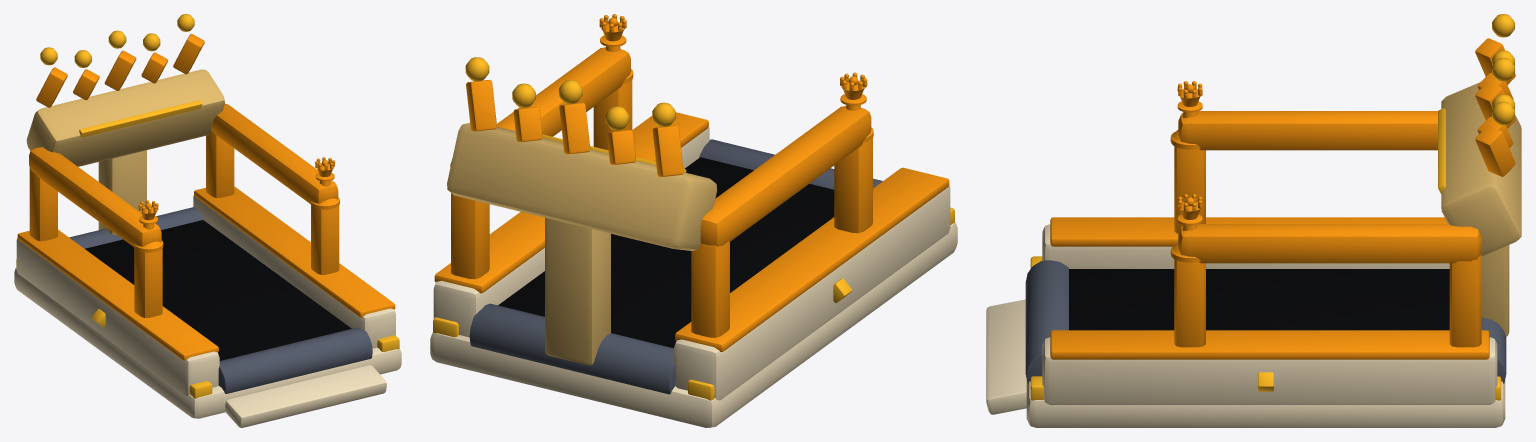
Rendered from QueenDash.obj.
3 renders of one model, left to right at view 1: azimuth 30°, elevation 25°; view 2: azimuth 150°, elevation 25°; view 3: azimuth 270°, elevation 25°, orthographic. The views are drawn at different scales.
Visible parts, largest first — view 1: QueenDash_Chassis, QueenDash_Trim, QueenDash_Rail, QueenDash_Belt, QueenDash_Console, QueenDash_Steel, QueenDash_Screen; view 2: QueenDash_Chassis, QueenDash_Console, QueenDash_Rail, QueenDash_Trim, QueenDash_Belt, QueenDash_Steel, QueenDash_Screen; view 3: QueenDash_Chassis, QueenDash_Rail, QueenDash_Trim, QueenDash_Belt, QueenDash_Console, QueenDash_Steel, QueenDash_Screen.
Boxes of the visible parts, bbox=[...] form: QueenDash_Chassis: bbox=[14, 195, 401, 427]; QueenDash_Trim: bbox=[17, 34, 395, 360]; QueenDash_Rail: bbox=[29, 103, 339, 317]; QueenDash_Belt: bbox=[85, 220, 351, 360]; QueenDash_Console: bbox=[26, 69, 224, 234]; QueenDash_Steel: bbox=[69, 207, 372, 393]; QueenDash_Screen: bbox=[16, 14, 399, 398]; QueenDash_Chassis: bbox=[430, 126, 957, 427]; QueenDash_Console: bbox=[447, 123, 717, 365]; QueenDash_Rail: bbox=[450, 47, 872, 337]; QueenDash_Trim: bbox=[434, 14, 949, 351]; QueenDash_Belt: bbox=[498, 157, 834, 348]; QueenDash_Steel: bbox=[469, 139, 882, 394]; QueenDash_Screen: bbox=[433, 57, 954, 400]; QueenDash_Chassis: bbox=[986, 224, 1505, 427]; QueenDash_Rail: bbox=[1174, 111, 1481, 347]; QueenDash_Trim: bbox=[1050, 38, 1515, 359]; QueenDash_Belt: bbox=[1069, 269, 1449, 330]; QueenDash_Console: bbox=[1441, 82, 1521, 336]; QueenDash_Steel: bbox=[1025, 260, 1506, 383]; QueenDash_Screen: bbox=[1030, 14, 1514, 400].
Size of the model in its own units: 8.63 by 8.59 by 13.42.
